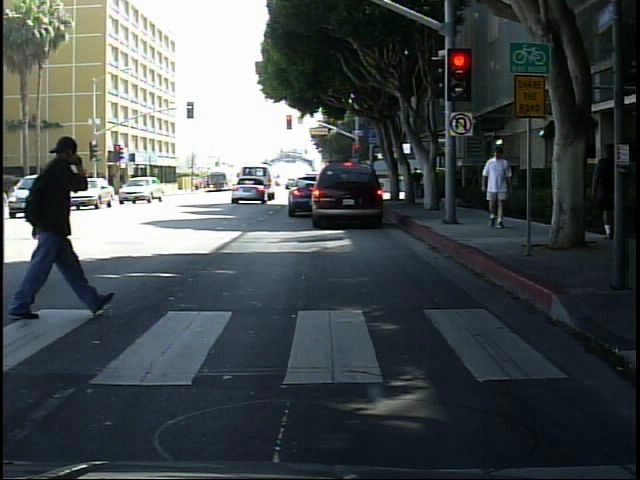person: (12, 123, 112, 337), (592, 137, 625, 246), (475, 145, 514, 231)
